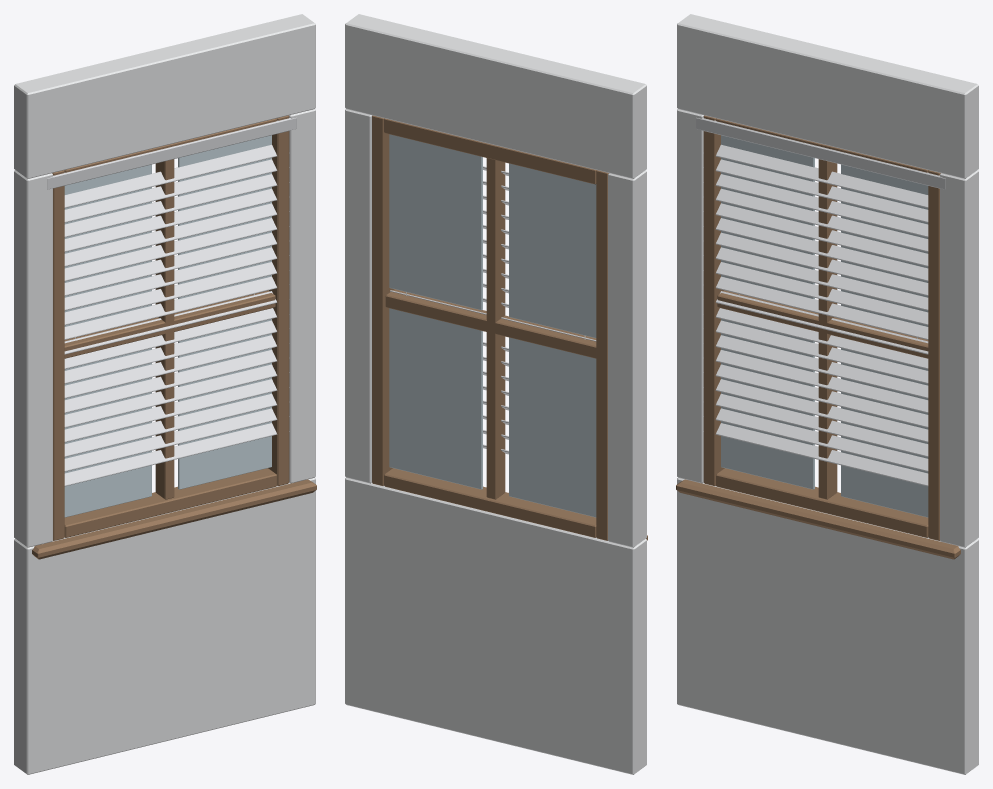
Rendered from police-station-and-detective-office-blind-window-wall-0e06a31c__29988.glb.
The picture shows the model from 3 angles, left to right: view 1: azimuth 30°, elevation 25°; view 2: azimuth 150°, elevation 25°; view 3: azimuth 330°, elevation 25°; orthographic projection.
Parts seen in each view (by area): view 1: blind-window-wall; view 2: blind-window-wall; view 3: blind-window-wall.
Boxes of the visible parts, box(x1,y1,x2,y2) form: blind-window-wall: box(14, 14, 316, 774); blind-window-wall: box(345, 14, 647, 774); blind-window-wall: box(676, 14, 978, 774).
Bounding box in the file's own units: 1.2 × 2.7 × 0.14.
